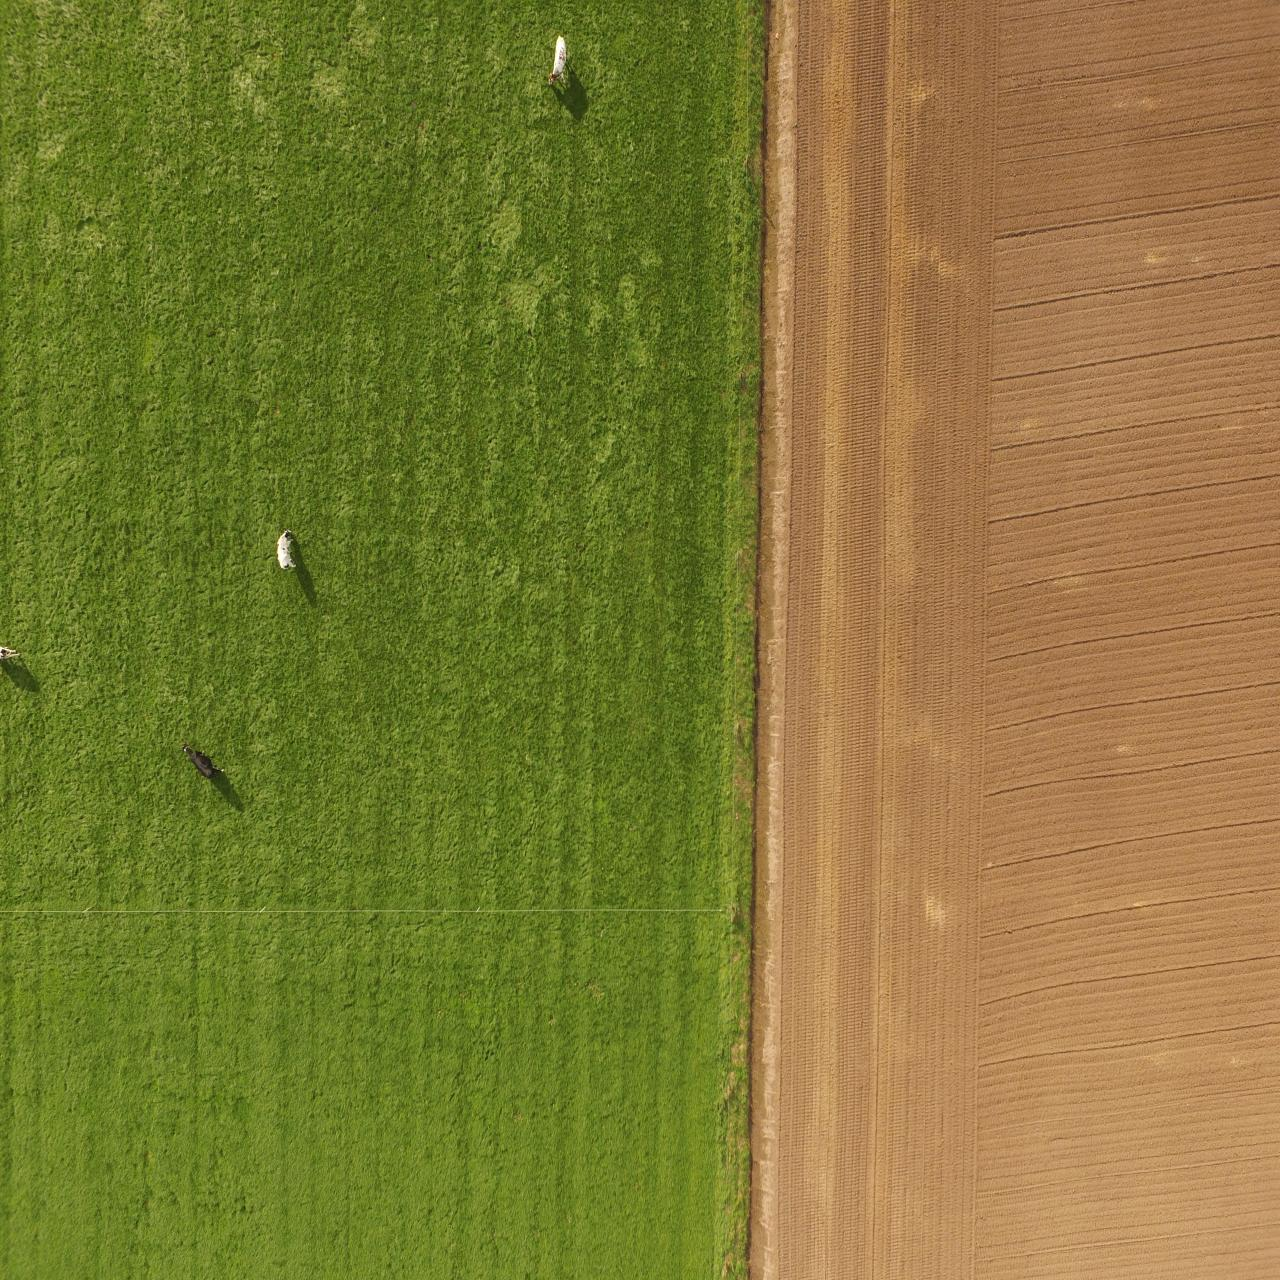cow: (177, 737, 225, 785), (545, 26, 572, 94), (275, 523, 299, 577), (0, 641, 27, 662)
